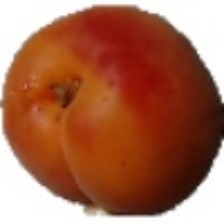apricot: (34, 60, 177, 201)
